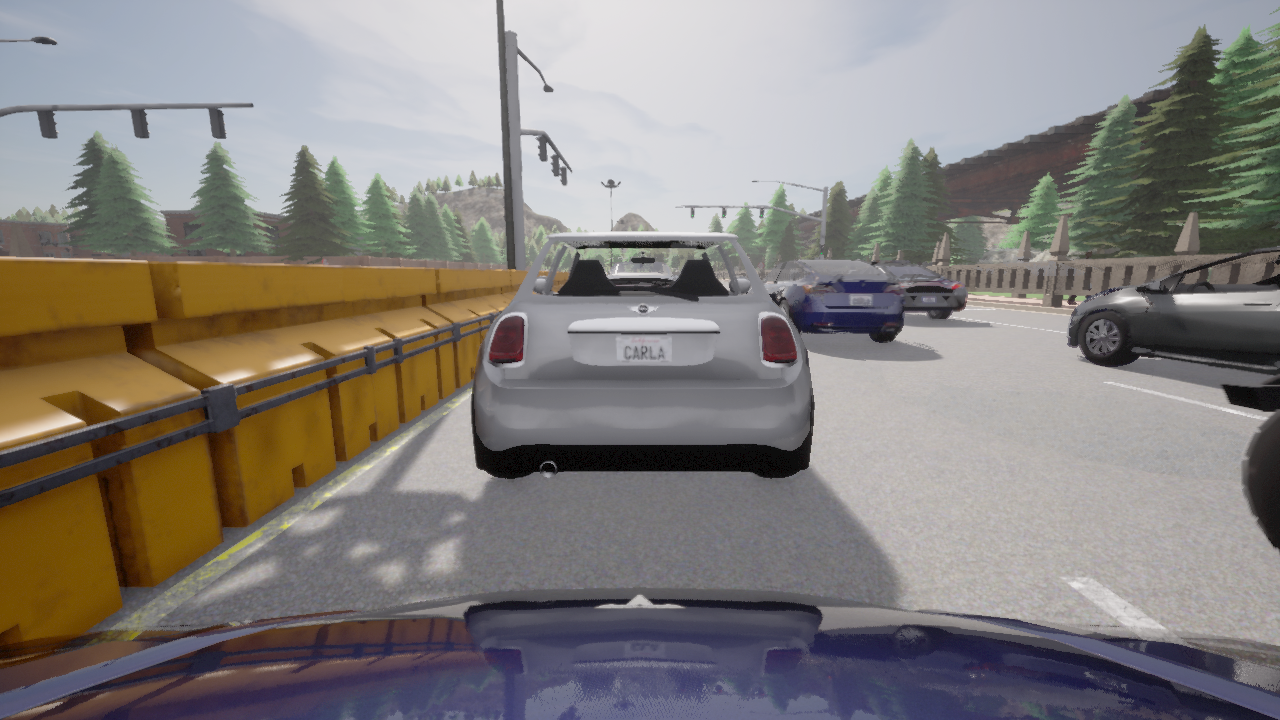cyclist: (0, 588, 1279, 719), (472, 232, 813, 477), (1068, 246, 1279, 375), (762, 259, 905, 341), (1220, 374, 1279, 554), (872, 261, 967, 319)
pedestrian: (1068, 250, 1092, 303)
